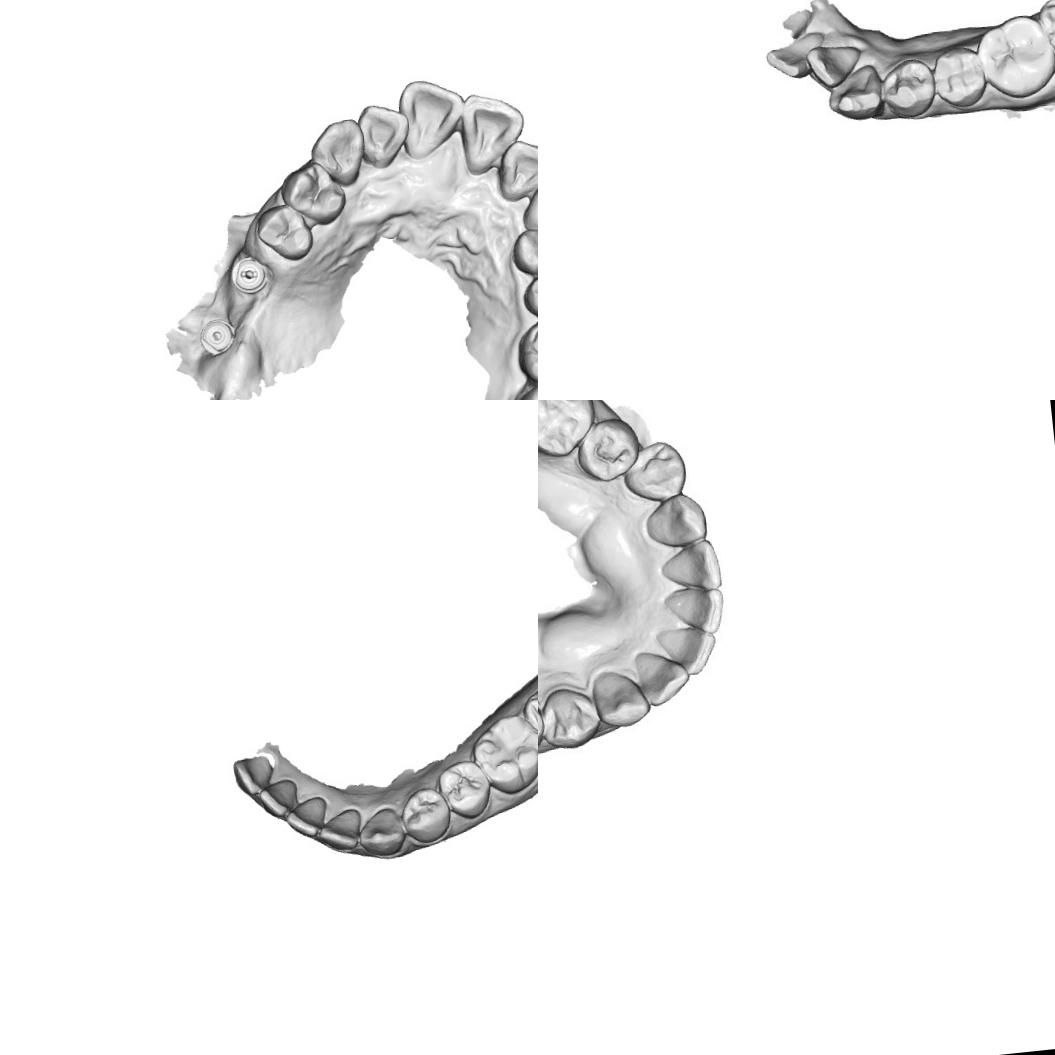canine: (306, 114, 369, 190), (824, 65, 889, 123), (645, 492, 710, 549), (594, 666, 646, 734), (355, 802, 408, 859), (517, 169, 538, 235)
implant: (196, 314, 237, 358)
implant_minus: (224, 248, 274, 298)
incisor: (454, 86, 530, 178), (395, 74, 472, 160), (354, 100, 414, 170), (804, 36, 867, 89), (667, 584, 728, 636), (764, 32, 826, 82), (638, 646, 689, 705), (666, 538, 722, 591), (495, 135, 538, 204), (226, 748, 280, 800), (660, 622, 714, 672), (281, 792, 332, 844), (316, 807, 366, 856), (254, 772, 301, 820)
molar: (973, 8, 1055, 102), (466, 710, 538, 798), (538, 400, 595, 453), (511, 312, 538, 389), (519, 669, 538, 757)
premolar: (278, 158, 351, 230), (619, 438, 689, 502), (538, 681, 600, 752), (254, 202, 316, 266), (578, 416, 638, 482), (434, 756, 492, 824), (878, 57, 936, 120), (931, 45, 988, 109), (398, 785, 454, 846), (507, 218, 538, 284), (517, 266, 538, 324)
